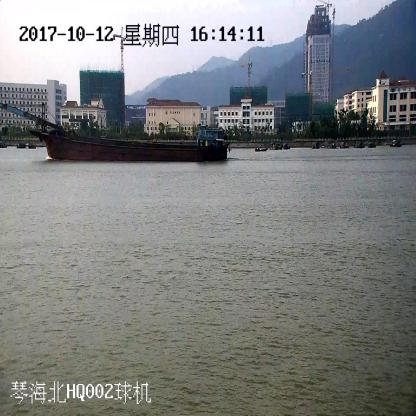Bulk Carrier: (0, 102, 228, 163)
